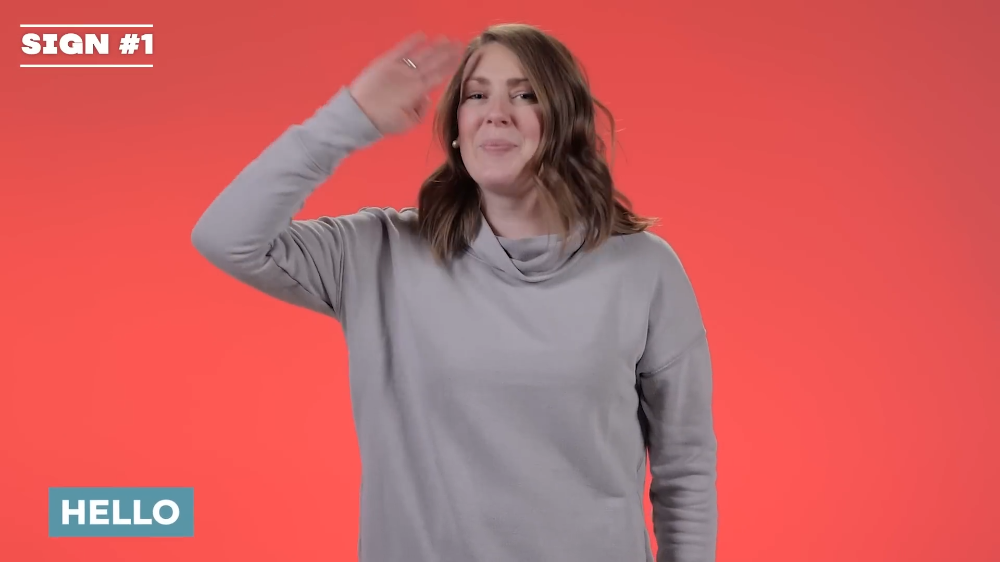hello: (357, 18, 460, 135)
